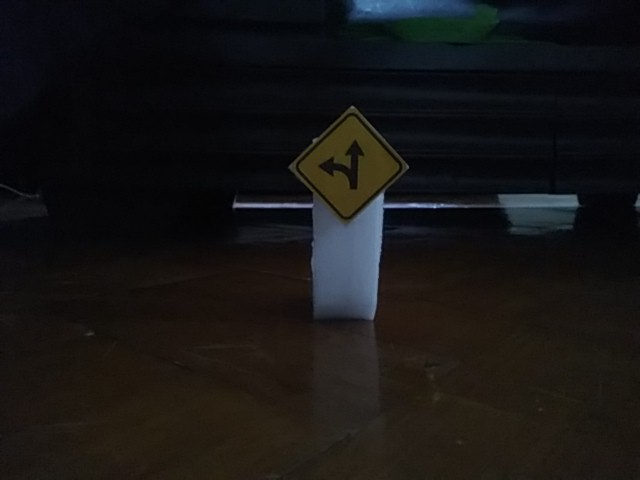Straight Or Left Sign: (291, 109, 408, 224)
